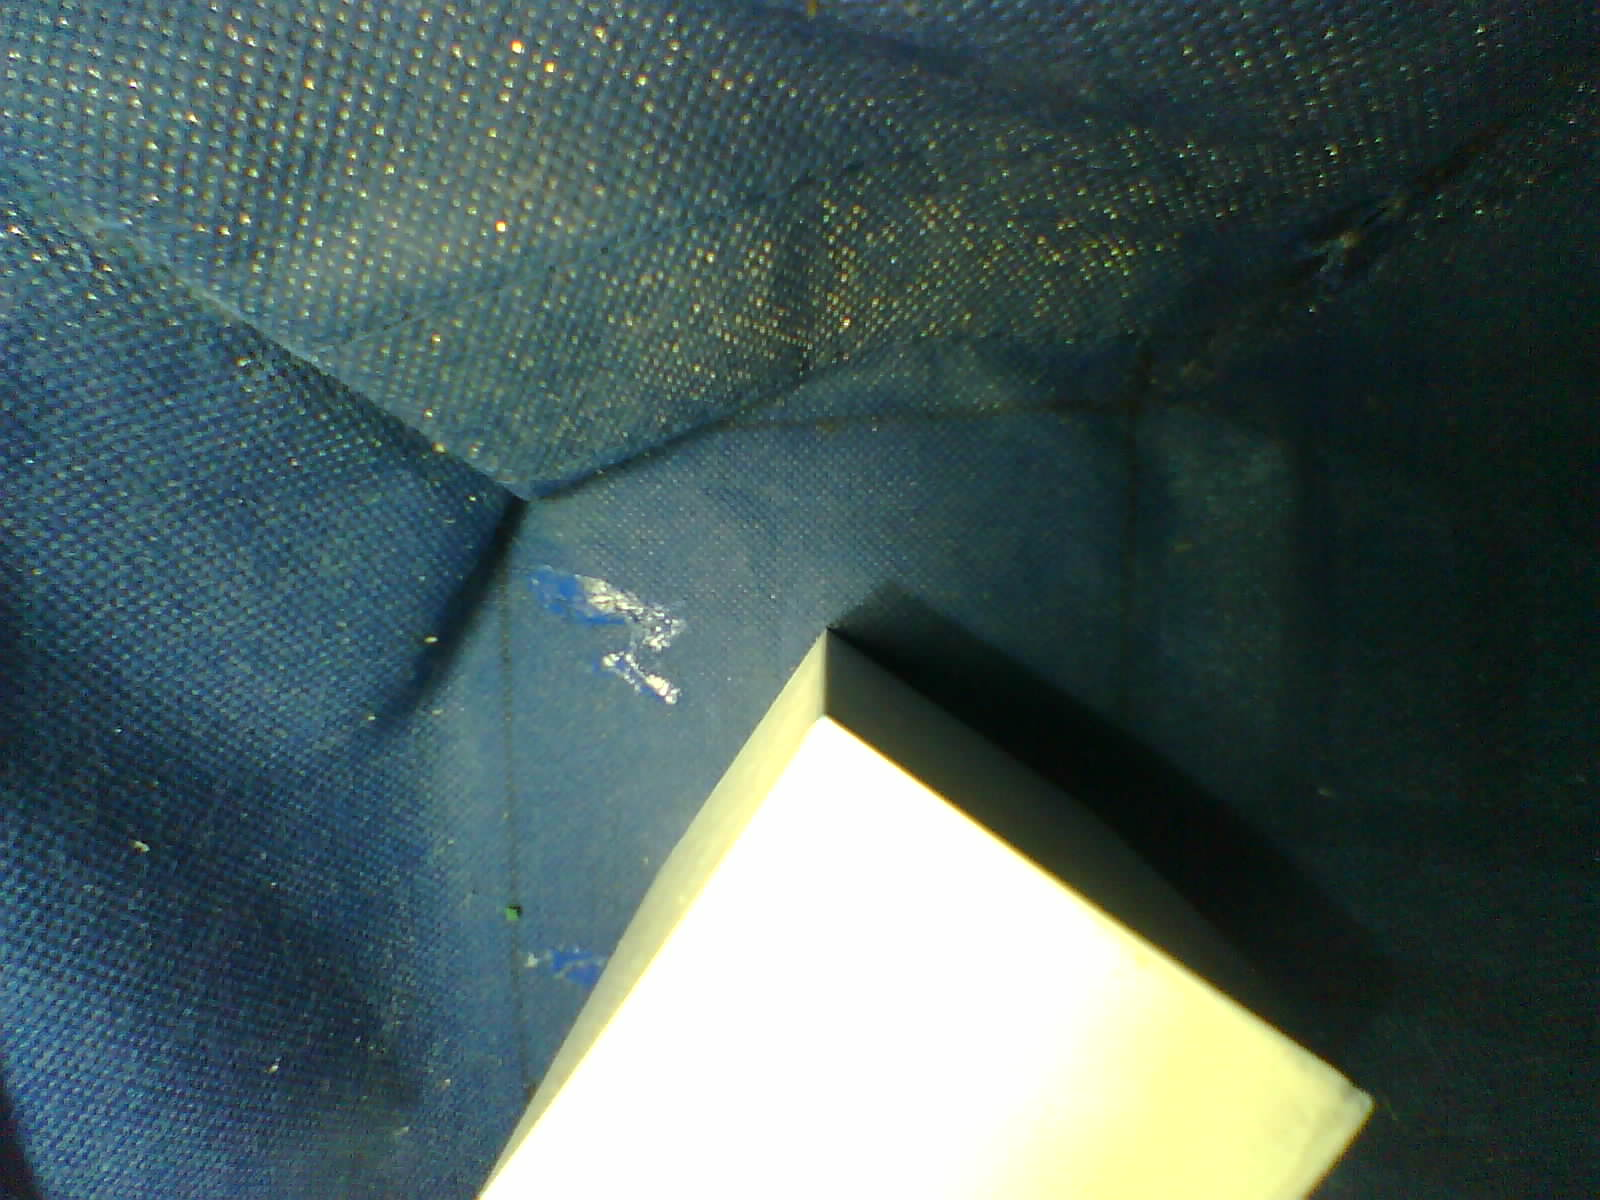cube-hard: (447, 618, 1385, 1200)
